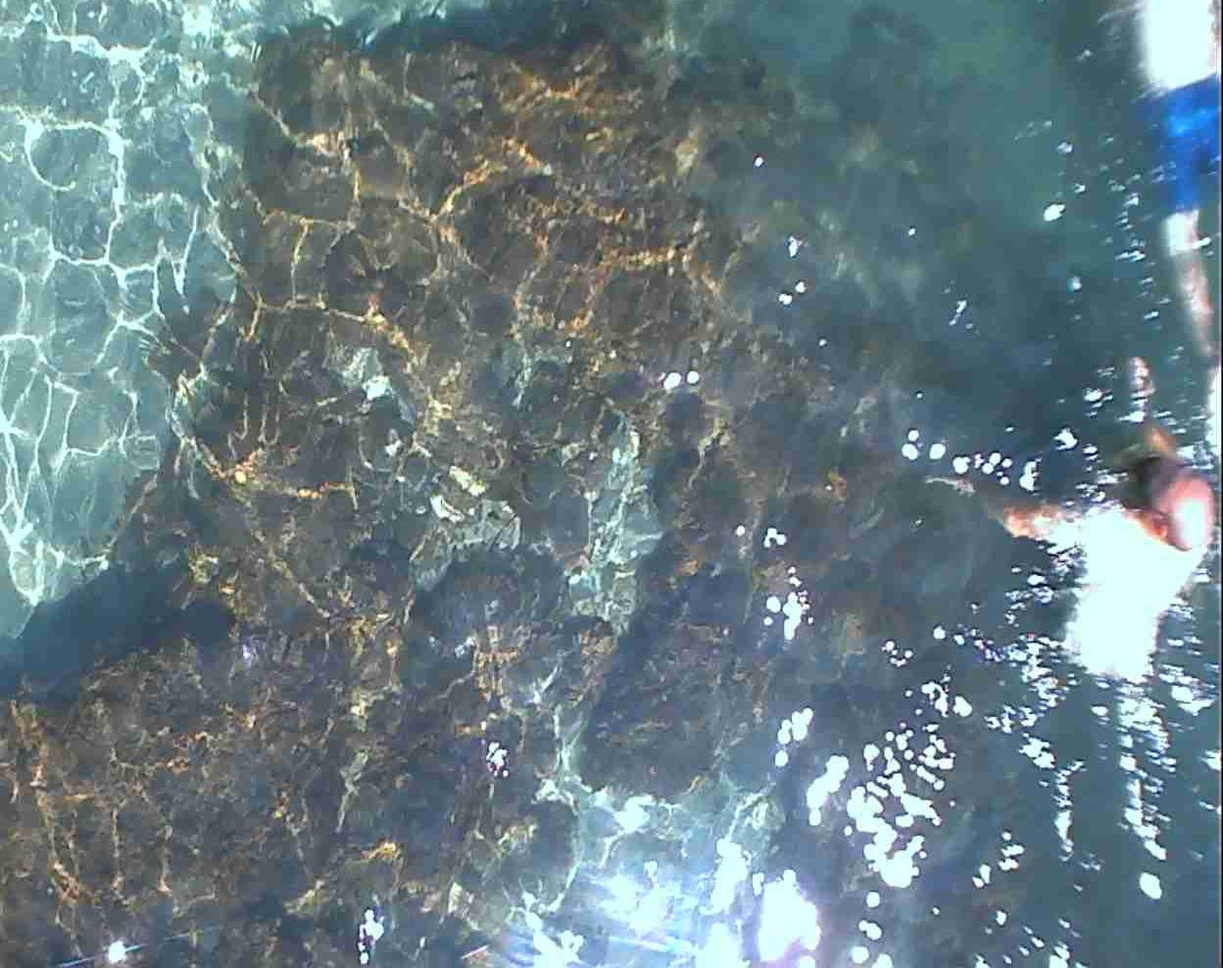human: (1003, 422, 1199, 674), (1117, 0, 1193, 414)
